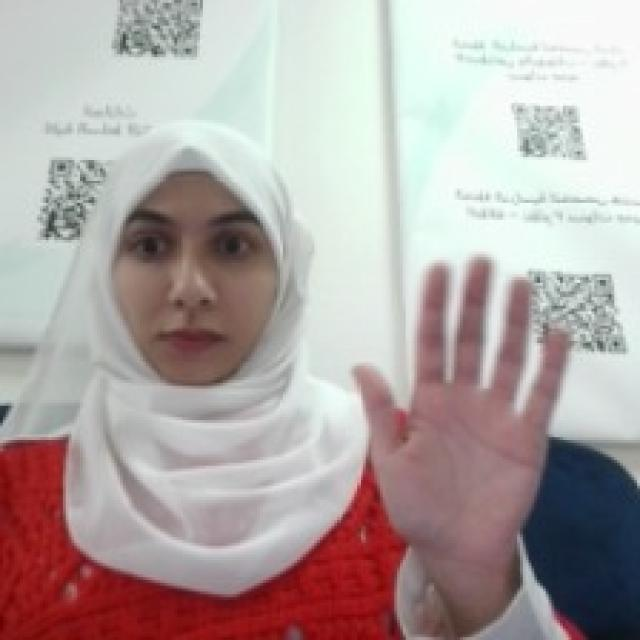Hello: (346, 248, 571, 563)
